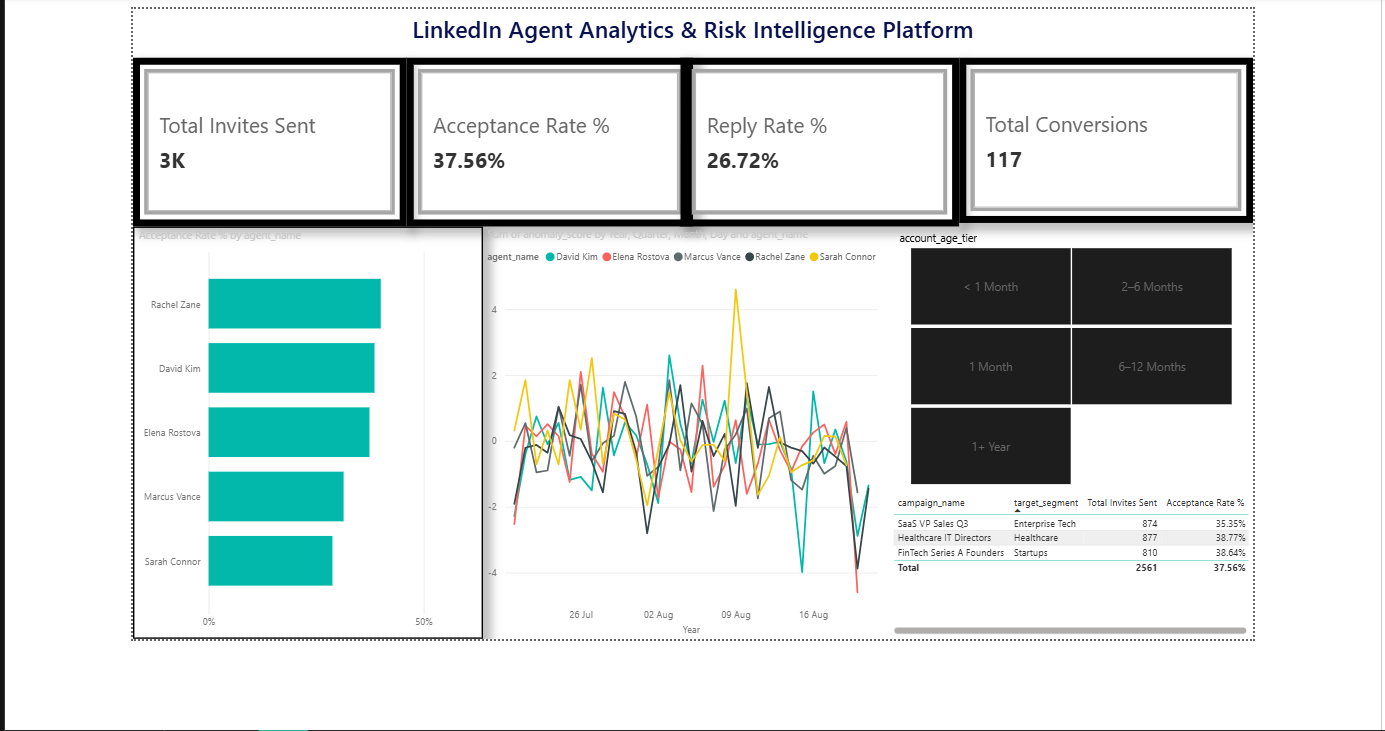

The dashboard page shown, as its layout file describes it:
{"tool":"powerbi","page":{"name":"Page 1","canvas":[1280,720],"ordinal":0},"visuals":[{"type":"textbox","box":[0,0,1280,55.7],"z":0},{"type":"cardVisual","fields":{"Data":["Table.Total Invites Sent"]},"box":[0,55.7,312.9,192.9],"z":1},{"type":"cardVisual","fields":{"Data":["Table.Acceptance Rate %"]},"box":[312.9,55.7,327.1,192.9],"z":2},{"type":"cardVisual","fields":{"Data":["Table.Reply Rate %"]},"box":[625.7,55.7,318.6,192.9],"z":3},{"type":"cardVisual","fields":{"Data":["Table.Total Conversions"]},"box":[944.3,55.7,335.7,188.6],"z":4},{"type":"clusteredBarChart","fields":{"Category":["dim_agent.agent_name"],"Y":["Table.Acceptance Rate %"]},"box":[0,248.6,400,471.4],"z":5},{"type":"lineChart","fields":{"Category":["dim_date.full_date.Variation.Date Hierarchy.Year","dim_date.full_date.Variation.Date Hierarchy.Quarter","dim_date.full_date.Variation.Date Hierarchy.Month","dim_date.full_date.Variation.Date Hierarchy.Day"],"Y":["Sum(fact_daily_agent_metric.anomaly_score)"],"Series":["dim_agent.agent_name"]},"box":[400,248.6,462.9,471.4],"z":6},{"type":"tableEx","fields":{"Values":["dim_campaign.campaign_name","dim_campaign.target_segment","Table.Total Invites Sent","Table.Acceptance Rate %"]},"box":[862.9,550,417.1,170],"z":7},{"type":"slicer","fields":{"Values":["dim_agent.account_age_tier"]},"box":[862.9,248.6,417.1,301.4],"z":8}]}

Visuals, with their boxes on the page's 1280x720 design canvas (x1, y1, x2, y2). These are canvas units, not pixel positions in the 1385x731 screenshot, which may show the page scaled, cropped or inside an application window:
textbox: pyautogui.locateOnScreen(0, 0, 1280, 56)
cardVisual - Table.Total Invites Sent: pyautogui.locateOnScreen(0, 56, 313, 249)
cardVisual - Table.Acceptance Rate %: pyautogui.locateOnScreen(313, 56, 640, 249)
cardVisual - Table.Reply Rate %: pyautogui.locateOnScreen(626, 56, 944, 249)
cardVisual - Table.Total Conversions: pyautogui.locateOnScreen(944, 56, 1280, 244)
clusteredBarChart - dim_agent.agent_name x Table.Acceptance Rate %: pyautogui.locateOnScreen(0, 249, 400, 720)
lineChart - dim_date.full_date.Variation.Date Hierarchy.Year x dim_date.full_date.Variation.Date Hierarchy.Quarter: pyautogui.locateOnScreen(400, 249, 863, 720)
tableEx - dim_campaign.campaign_name x dim_campaign.target_segment: pyautogui.locateOnScreen(863, 550, 1280, 720)
slicer - dim_agent.account_age_tier: pyautogui.locateOnScreen(863, 249, 1280, 550)
